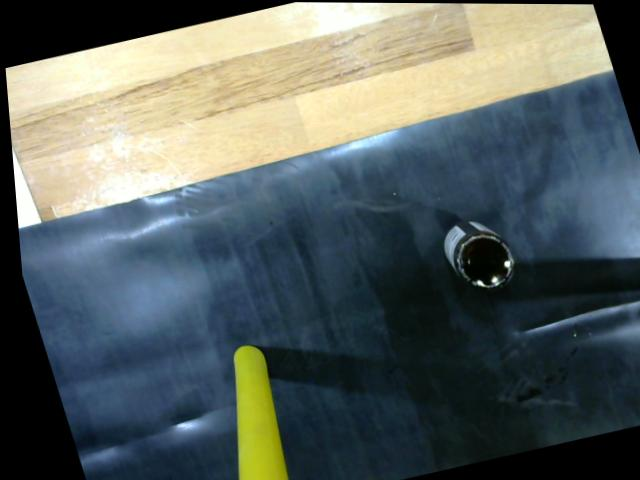glass: (428, 208, 527, 301)
